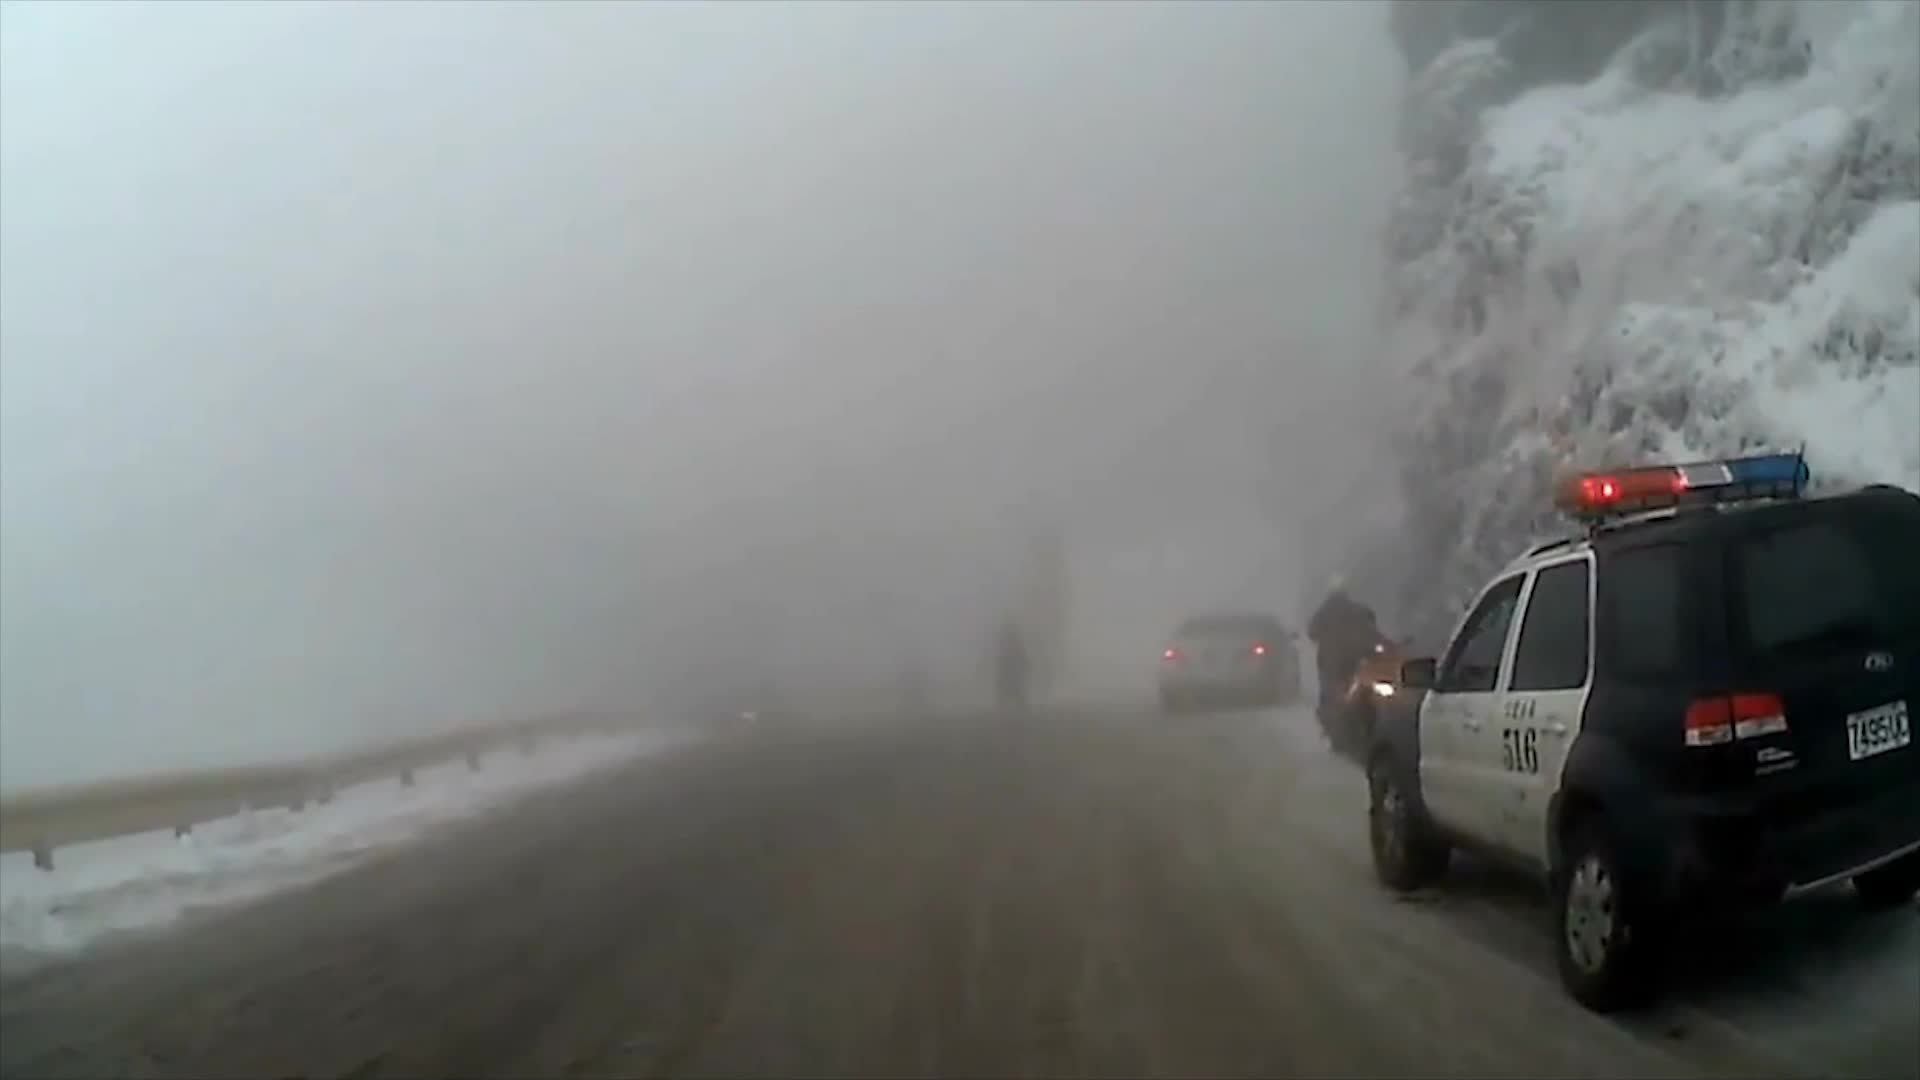pedestrian: (1307, 579, 1384, 746)
vehicle: (1361, 448, 1920, 1017), (1158, 606, 1304, 712)
